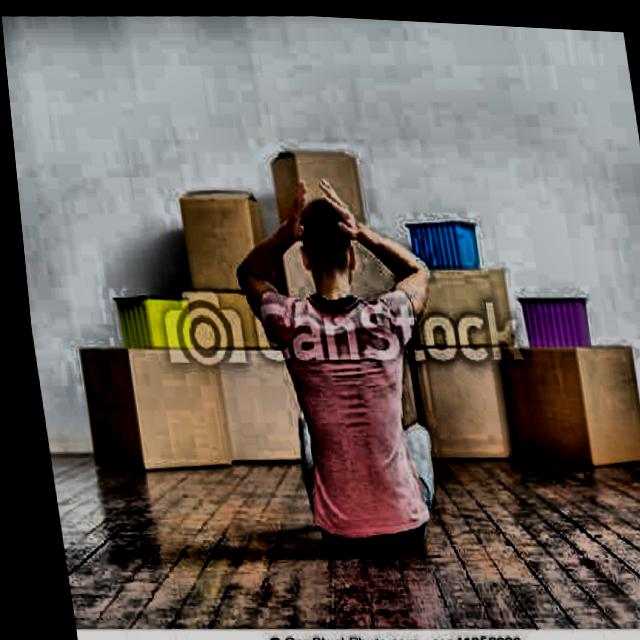Cardbox: (391, 254, 583, 364), (253, 114, 388, 250), (161, 184, 273, 334)
